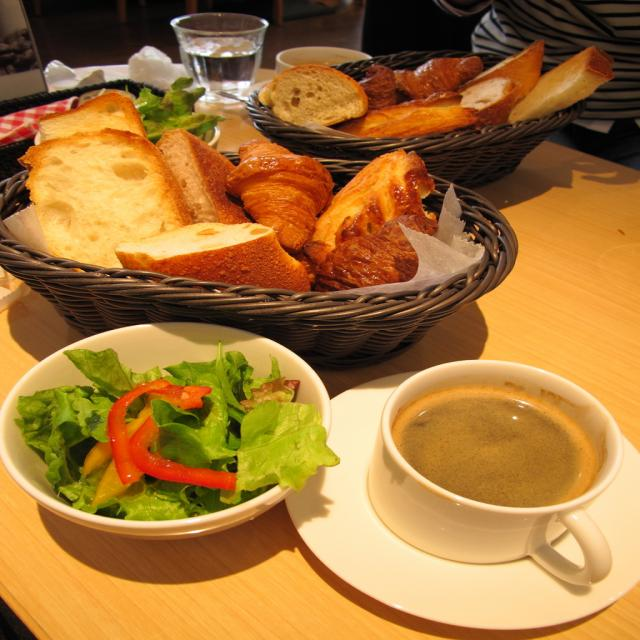Coffee: (386, 363, 633, 573)
